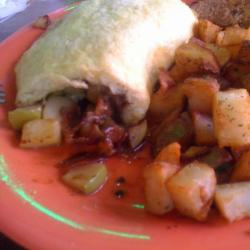fries: (163, 23, 250, 221)
omelette: (24, 2, 191, 140)
